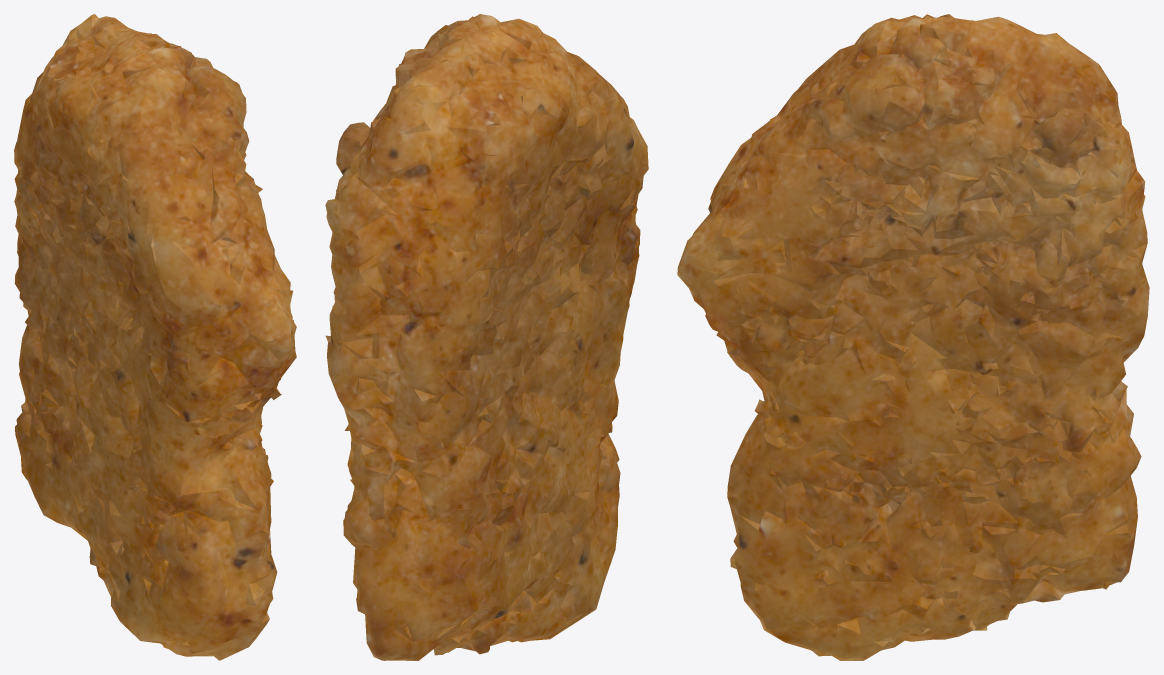
3 renders of one model, left to right at view 1: azimuth 30°, elevation 25°; view 2: azimuth 150°, elevation 25°; view 3: azimuth 270°, elevation 25°, orthographic. The views are drawn at different scales.
Visible parts, largest first — view 1: Object_2; view 2: Object_2; view 3: Object_2.
Boxes of the visible parts, x1,y1,x2,y2 form: Object_2: [14, 14, 296, 660]; Object_2: [325, 14, 648, 660]; Object_2: [677, 14, 1149, 660].
Size of the model in its own units: 15.43 by 55.17 by 37.31.
1 material, 1 textured.
